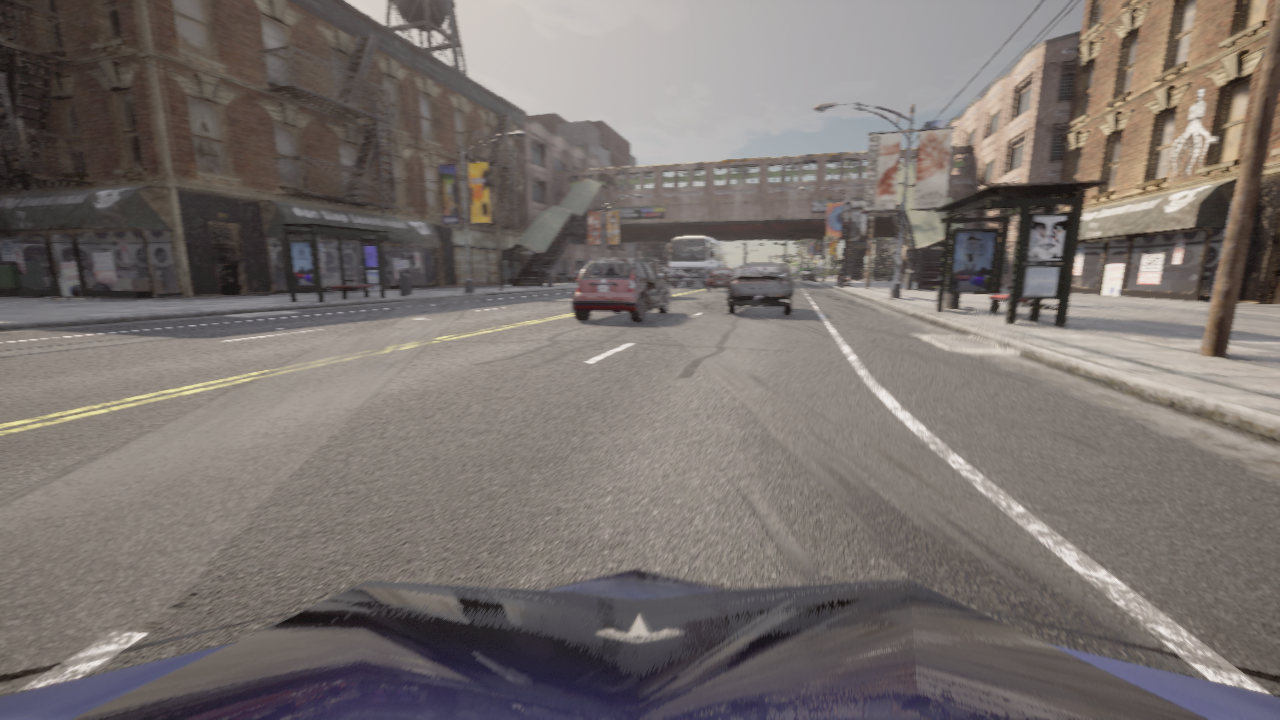cyclist: (0, 569, 1279, 719), (572, 257, 670, 322), (727, 263, 798, 315), (669, 241, 722, 274), (707, 269, 736, 291), (652, 266, 668, 283), (836, 271, 850, 286), (799, 271, 817, 282), (669, 273, 681, 282), (799, 270, 808, 277), (737, 264, 745, 271), (679, 274, 687, 281)
